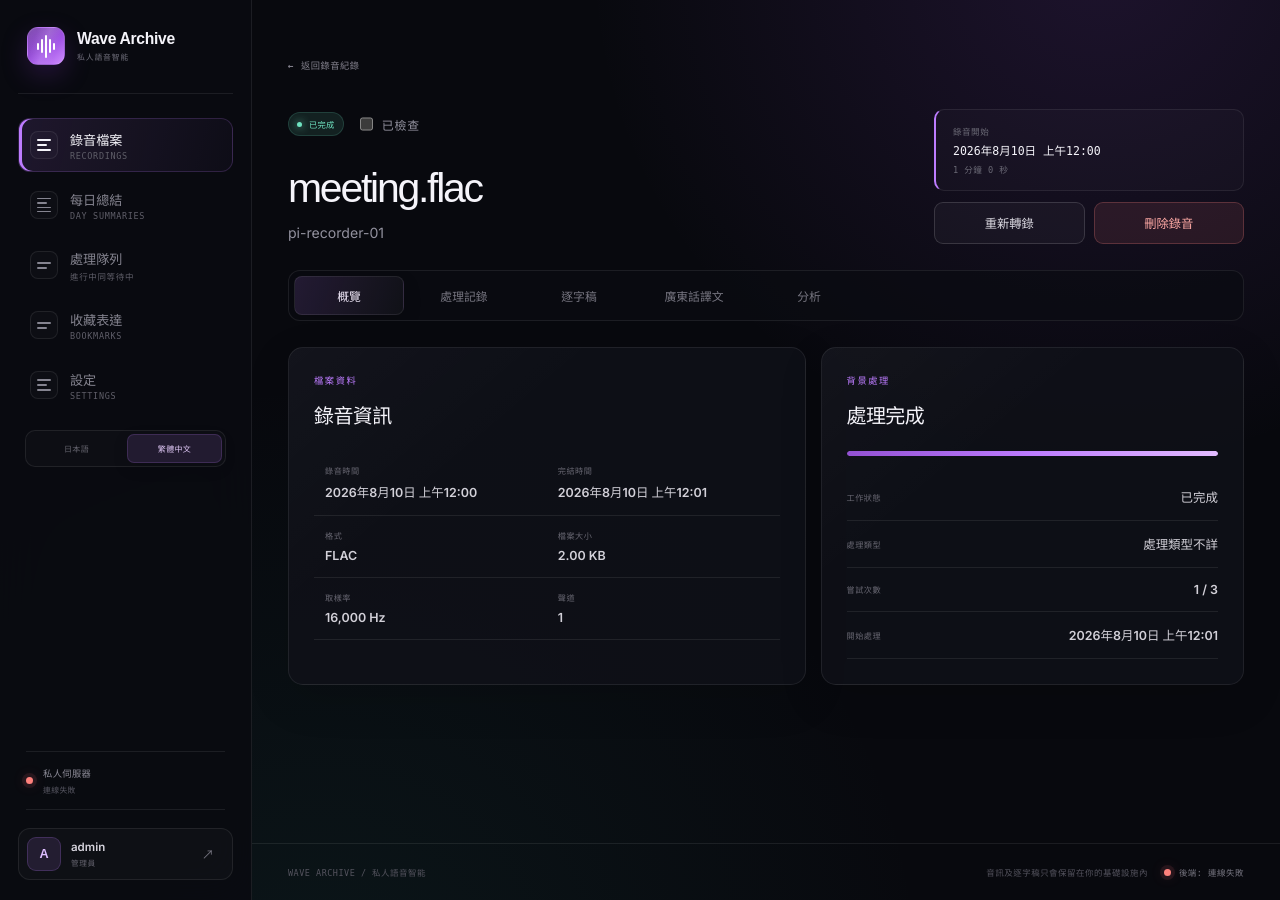
it: recording transcript states › shows why a first analysis gave up instead of an endless preparing state
Check: the heading "meeting.flac" is shown, box [288,168,482,208]
Click the tab "分析". click: [809, 296]
box: [754,276,864,316]
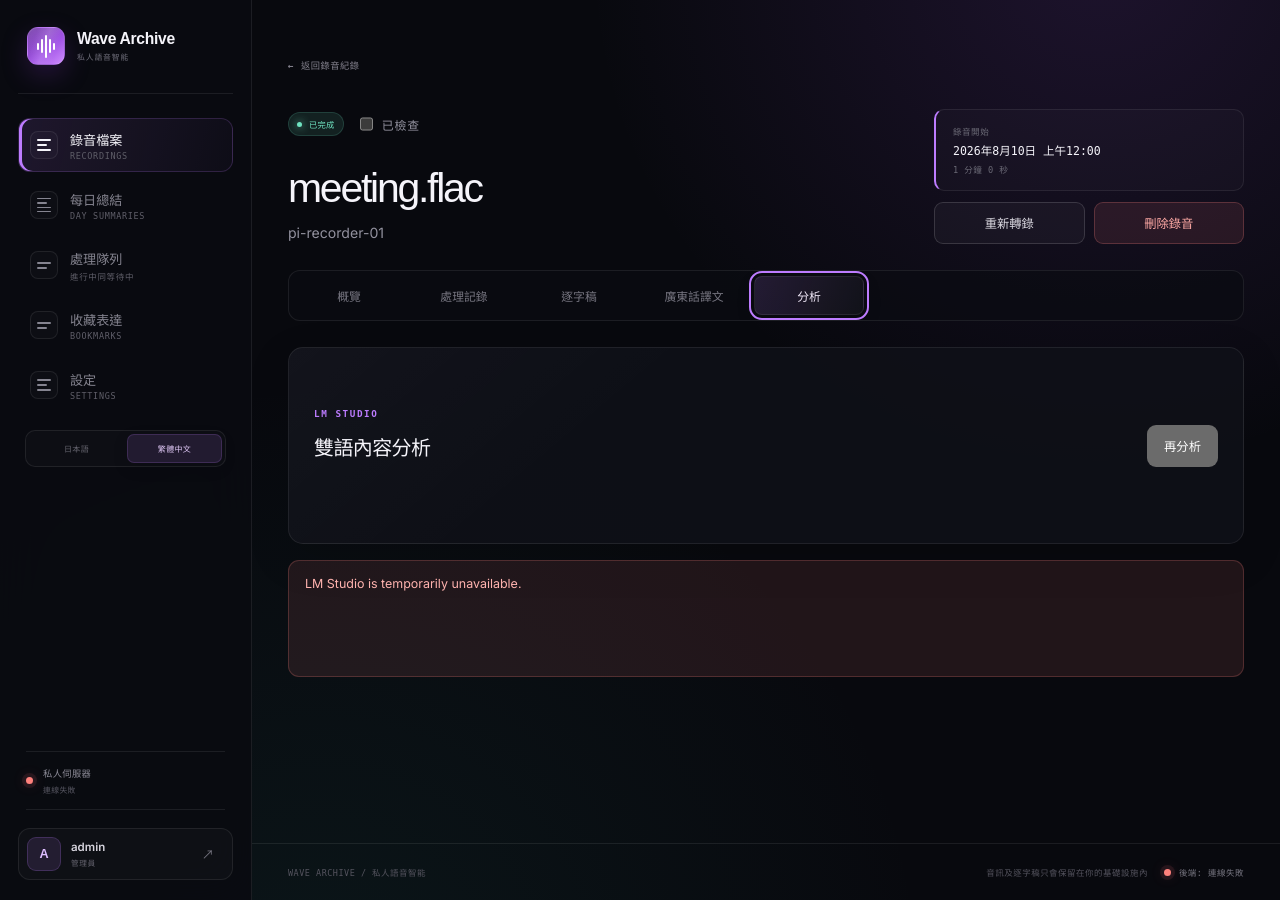
Check: the text "LM Studio is temporarily unavailable." is shown, box [288,560,1244,678]
